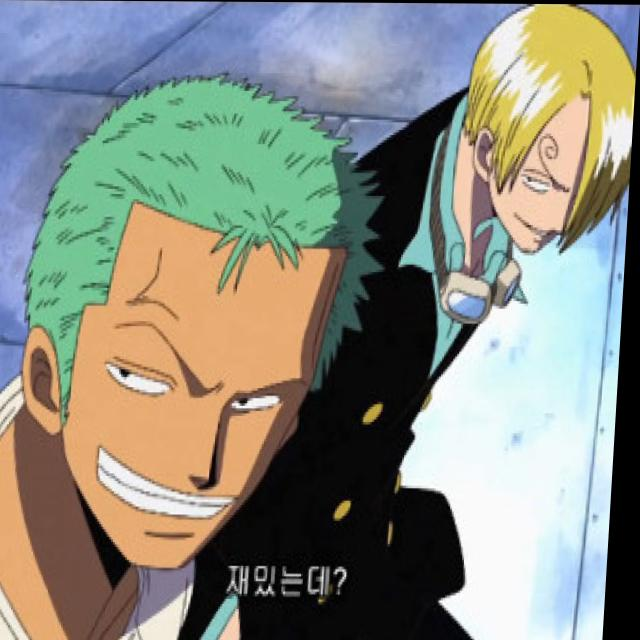Sangdi: (449, 3, 640, 258)
Zoro: (0, 74, 393, 580)
